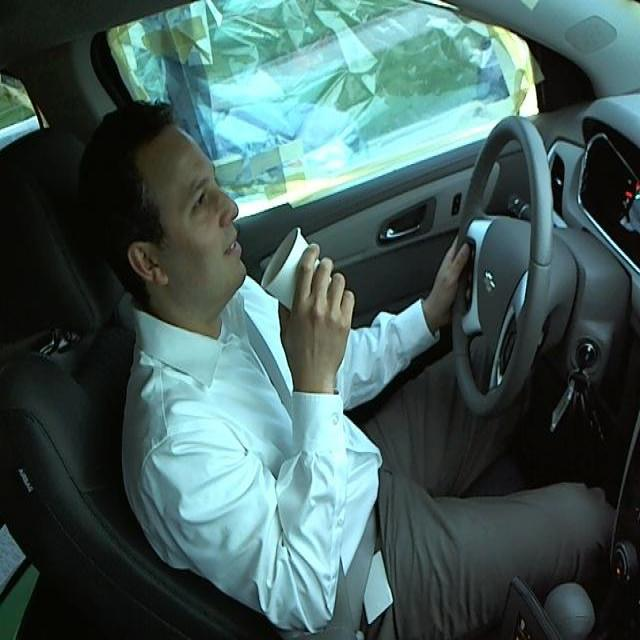Seatbelt: (258, 226, 342, 326)
